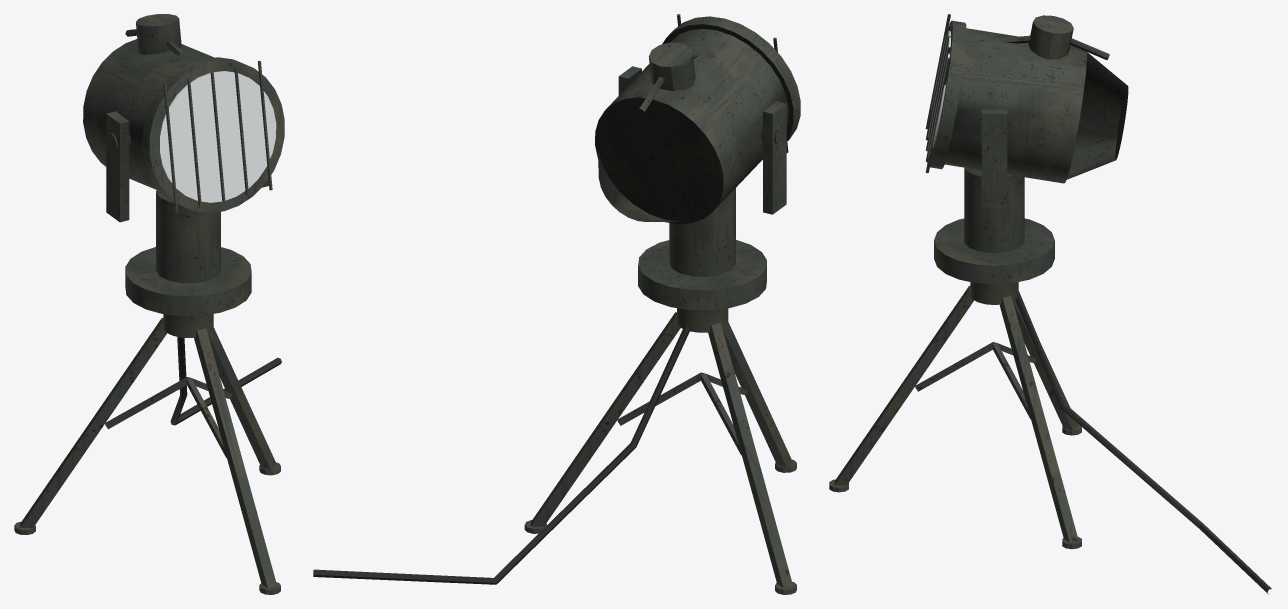
The model's file is searchlight.glb.
3 renders of one model, left to right at view 1: azimuth 30°, elevation 25°; view 2: azimuth 150°, elevation 25°; view 3: azimuth 270°, elevation 25°, orthographic. The views are drawn at different scales.
Visible parts, largest first — view 1: Head, SearchlightTripod; view 2: Head, SearchlightTripod; view 3: Head, SearchlightTripod.
Part boxes in pixels (<box>): Head: <box>83,14,284,316</box>; SearchlightTripod: <box>14,314,281,594</box>; Head: <box>595,14,800,310</box>; SearchlightTripod: <box>313,308,796,594</box>; Head: <box>925,14,1128,284</box>; SearchlightTripod: <box>829,282,1271,594</box>.
Size of the model in its own units: 2.35 by 2.98 by 2.58.
4 materials, 2 textured.
